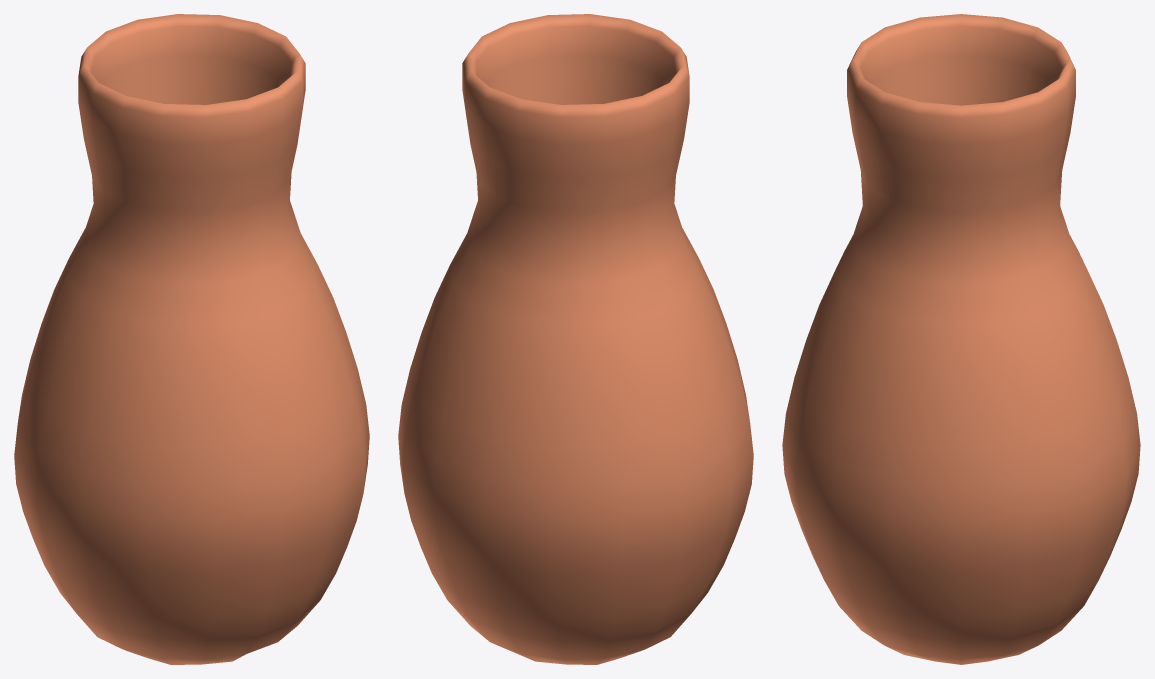
The model's file is Vase_02.fbx.
3 views of the same model, side by side, from view 1: azimuth 30°, elevation 25°; view 2: azimuth 150°, elevation 25°; view 3: azimuth 270°, elevation 25° (orthographic).
Parts seen in each view (by area): view 1: Cylinder.001; view 2: Cylinder.001; view 3: Cylinder.001.
Part boxes in pixels (x1,y1,x2,y2): Cylinder.001: [14, 14, 369, 664]; Cylinder.001: [398, 14, 753, 664]; Cylinder.001: [782, 14, 1140, 664].
Bounding box in the file's own units: 45.42 × 81.61 × 45.42.
